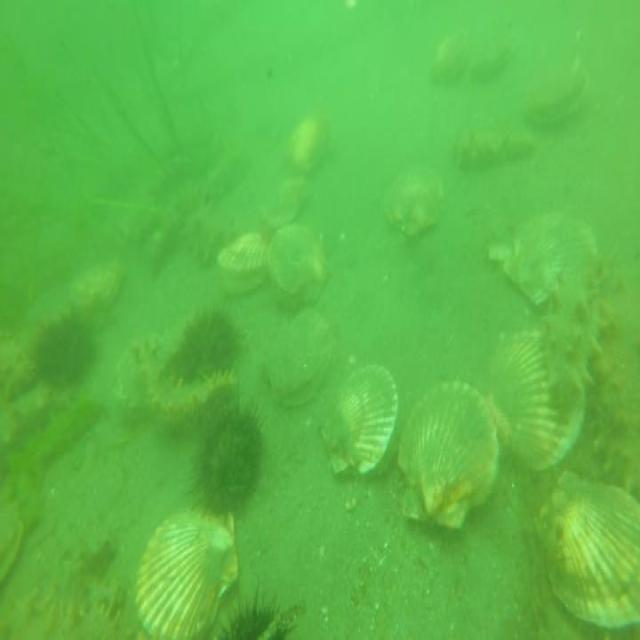echinus: (195, 398, 264, 525), (158, 305, 241, 386), (32, 295, 101, 392)
holothurian: (538, 240, 629, 417), (138, 348, 241, 441), (596, 314, 640, 500), (451, 117, 536, 182), (180, 198, 242, 267), (0, 313, 42, 403)
scallop: (530, 464, 640, 640), (396, 376, 501, 534), (482, 324, 589, 479), (135, 496, 245, 640), (500, 206, 598, 308), (320, 359, 397, 485), (262, 305, 334, 416), (380, 148, 449, 246), (113, 321, 175, 423), (268, 220, 335, 304), (524, 63, 592, 142), (217, 223, 270, 294), (285, 114, 335, 178), (427, 21, 473, 88), (1, 495, 26, 591)
